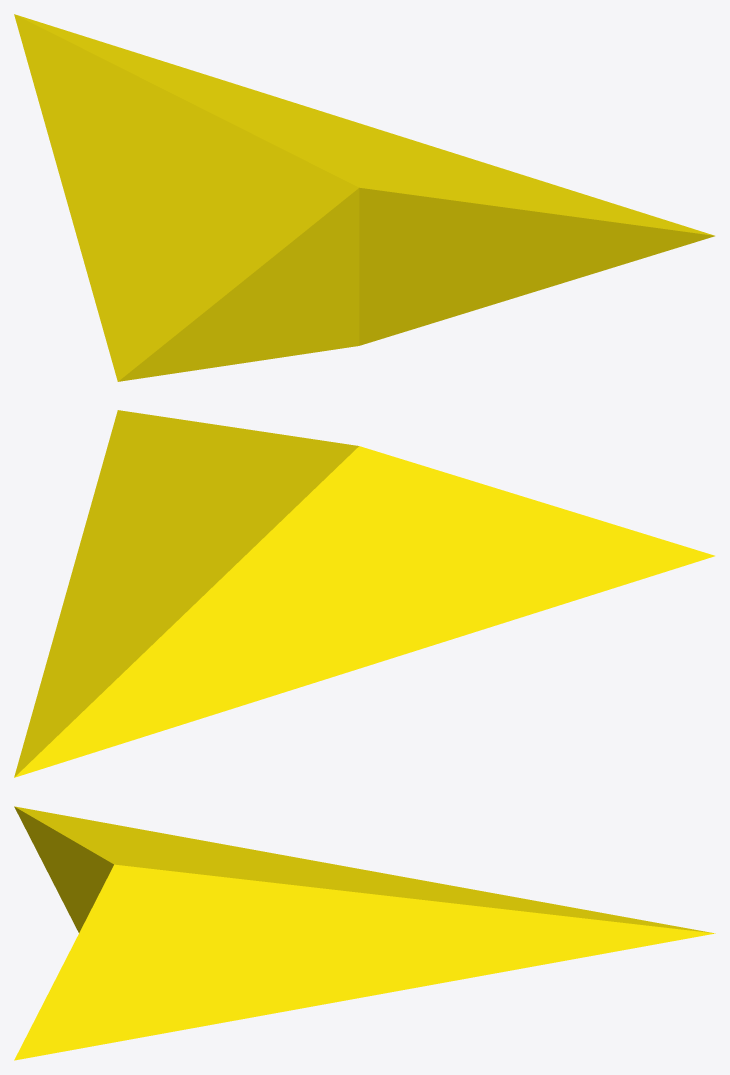
Rendered from arrow.dae.
3 renders of one model, top to bottom at view 1: azimuth 30°, elevation 25°; view 2: azimuth 150°, elevation 25°; view 3: azimuth 270°, elevation 25°, orthographic. The views are drawn at different scales.
Visible parts, largest first — view 1: arrow; view 2: arrow; view 3: arrow.
Part boxes in pixels (x1,y1,x2,y2): arrow: [14, 14, 714, 381]; arrow: [14, 410, 714, 777]; arrow: [14, 806, 715, 1060].
Bounding box in the file's own units: 0.0191 × 0.0223 × 0.00483.
